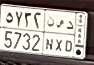2: (32, 12, 42, 52)
3: (22, 12, 32, 51)
5: (4, 12, 14, 49)
7: (13, 11, 23, 49)
D: (65, 20, 73, 52)
N: (45, 16, 55, 50)
X: (55, 19, 64, 51)
